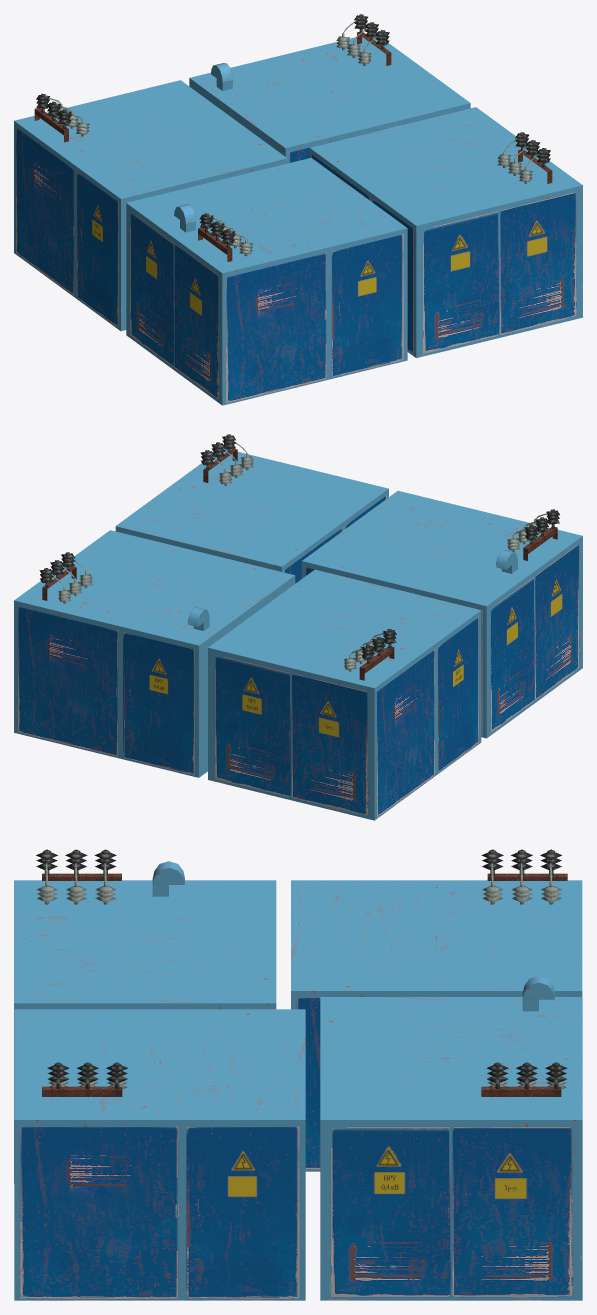
File: T-Budka_test.fbx
3 renders of one model, top to bottom at view 1: azimuth 30°, elevation 25°; view 2: azimuth 150°, elevation 25°; view 3: azimuth 270°, elevation 25°, orthographic. The views are drawn at different scales.
Parts seen in each view (by area): view 1: T-Budka, addition; view 2: T-Budka, addition; view 3: T-Budka, addition.
Boxes of the visible parts, box(x1,y1,x2,y2) form: T-Budka: box(14, 36, 582, 405); addition: box(34, 14, 552, 261); T-Budka: box(14, 448, 582, 820); addition: box(39, 434, 559, 680); T-Budka: box(14, 880, 582, 1300); addition: box(36, 849, 567, 1096).
Size of the model in its own units: 390 by 168 by 390.
